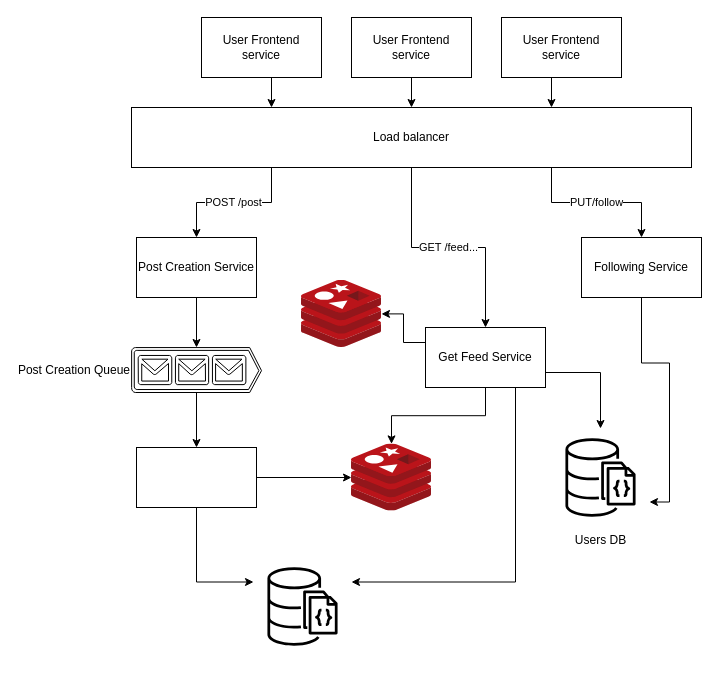
Image size: 719x694. Some labels were removed from this diagram. The centre of each missing label's shape, as x and y in pixels:
"Next page cache" belongs at point (341, 313).
"Post Creation processor" belongs at point (196, 477).
"Post LRU Cache" belongs at point (391, 477).
"Post Storage" belongs at point (302, 606).
